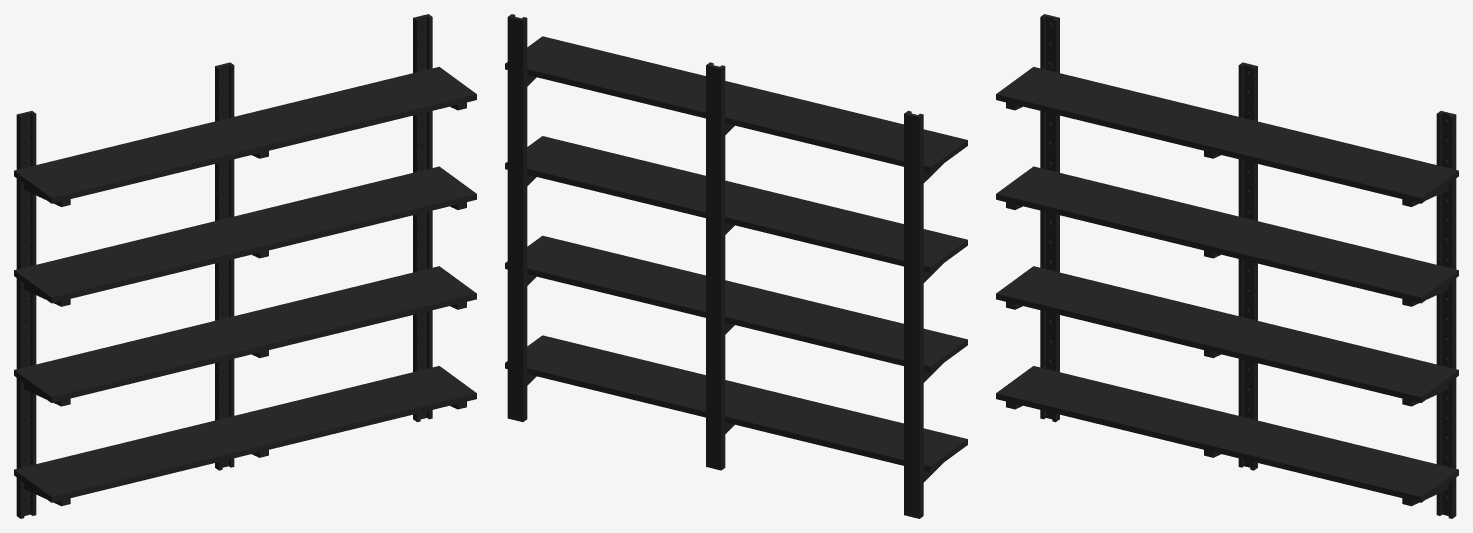
Rendered from cupboard_025.fbx.
3 renders of one model, left to right at view 1: azimuth 30°, elevation 25°; view 2: azimuth 150°, elevation 25°; view 3: azimuth 330°, elevation 25°, orthographic.
Visible parts, largest first — view 1: cupboard_025; view 2: cupboard_025; view 3: cupboard_025.
Boxes of the visible parts, bbox=[...] form: cupboard_025: bbox=[14, 14, 476, 518]; cupboard_025: bbox=[505, 14, 967, 518]; cupboard_025: bbox=[996, 14, 1458, 518].
Bounding box in the file's own units: 265 × 44.89 × 239.
